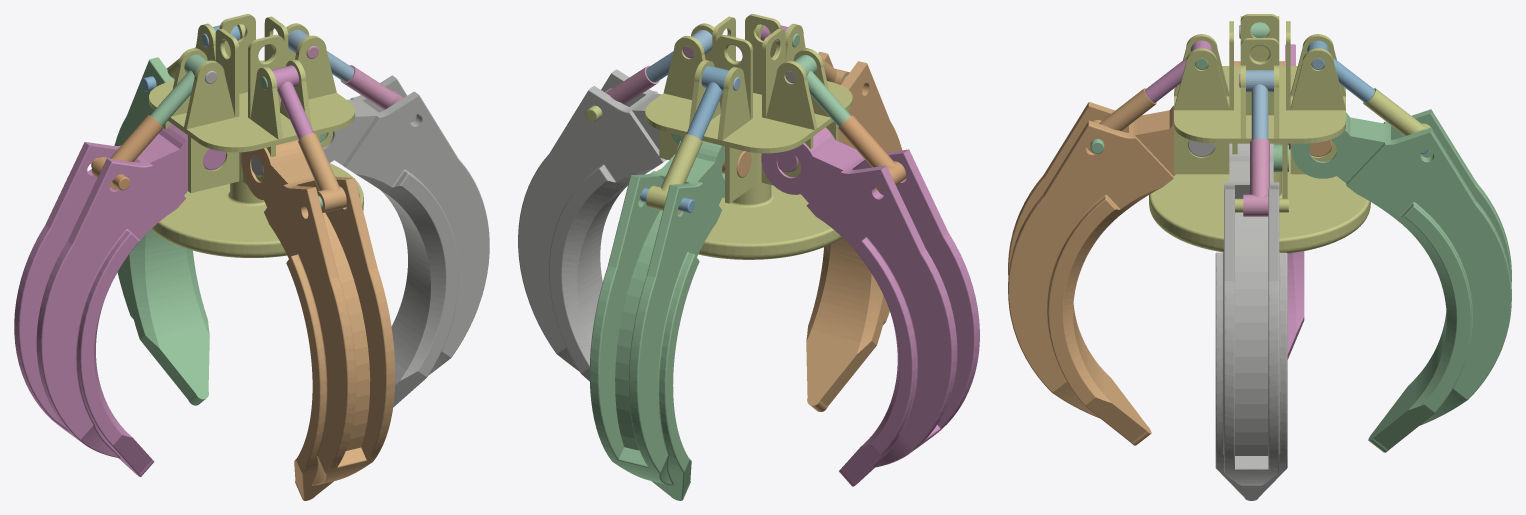
Rendered from case-03_ground_truth.glb.
3 views of the same model, side by side, from view 1: azimuth 30°, elevation 25°; view 2: azimuth 150°, elevation 25°; view 3: azimuth 270°, elevation 25° (orthographic).
Visible parts, largest first — view 1: c00002, c00003, c00001, c00005, c00004, c00013, c00012, c00009, c00008, c00007, c00006; view 2: c00002, c00004, c00001, c00005, c00003, c00011, c00009, c00010, c00008, c00007, c00006; view 3: c00004, c00001, c00003, c00005, c00002, c00007, c00006, c00011, c00013, c00012, c00010.
Part boxes in pixels (x1,y1,x2,y2): c00002: [14, 123, 187, 476]; c00003: [241, 140, 395, 500]; c00001: [149, 14, 363, 257]; c00005: [323, 75, 489, 406]; c00004: [114, 57, 209, 405]; c00013: [298, 133, 346, 212]; c00012: [271, 65, 313, 139]; c00009: [92, 114, 163, 189]; c00008: [150, 54, 206, 126]; c00007: [340, 65, 403, 110]; c00006: [288, 29, 353, 81]; c00002: [761, 127, 979, 486]; c00004: [589, 140, 724, 500]; c00001: [645, 14, 852, 259]; c00005: [518, 69, 666, 381]; c00003: [806, 52, 901, 411]; c00011: [646, 134, 702, 214]; c00009: [838, 115, 906, 190]; c00010: [686, 65, 728, 140]; c00008: [794, 55, 851, 126]; c00007: [604, 65, 659, 104]; c00006: [646, 30, 712, 82]; c00004: [1291, 109, 1511, 452]; c00001: [1149, 14, 1370, 253]; c00003: [1008, 102, 1175, 445]; c00005: [1215, 143, 1287, 500]; c00002: [1285, 44, 1304, 359]; c00007: [1243, 138, 1269, 216]; c00006: [1246, 70, 1273, 139]; c00011: [1363, 88, 1432, 153]; c00013: [1086, 88, 1156, 153]; c00012: [1145, 40, 1212, 102]; c00010: [1307, 40, 1374, 102].
Size of the model in its own units: 1817 by 1677 by 1817.
